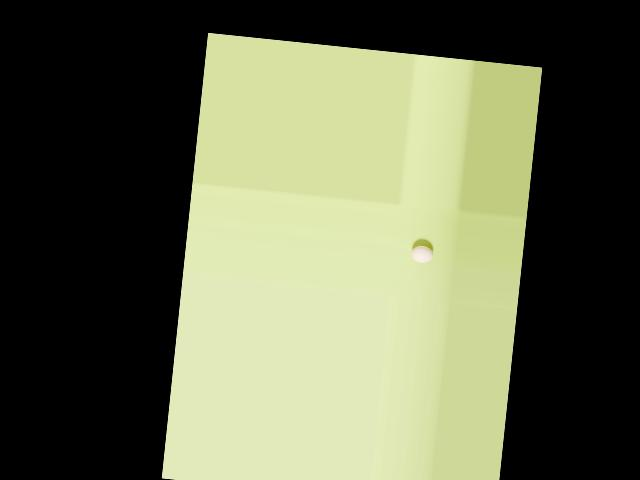egg: (411, 244, 434, 263)
